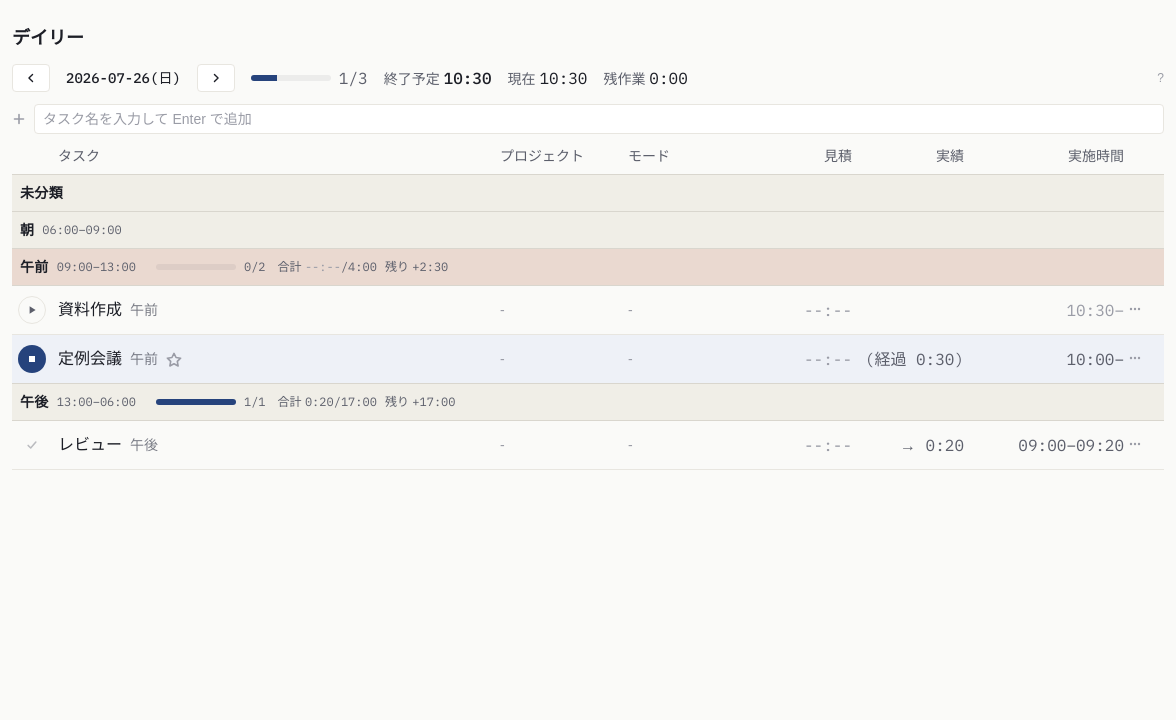
DailyBoard の URL 編集（O-18 / F-125 / §8） › Esc で取り消すと書きかけは保存されない（00_共通 §2.3）
The image size is (1176, 720).
Click the button named "行メニュー" next to "10:30–" at {"x": 1135, "y": 308}, box left=1124, top=298, right=1146, bottom=320
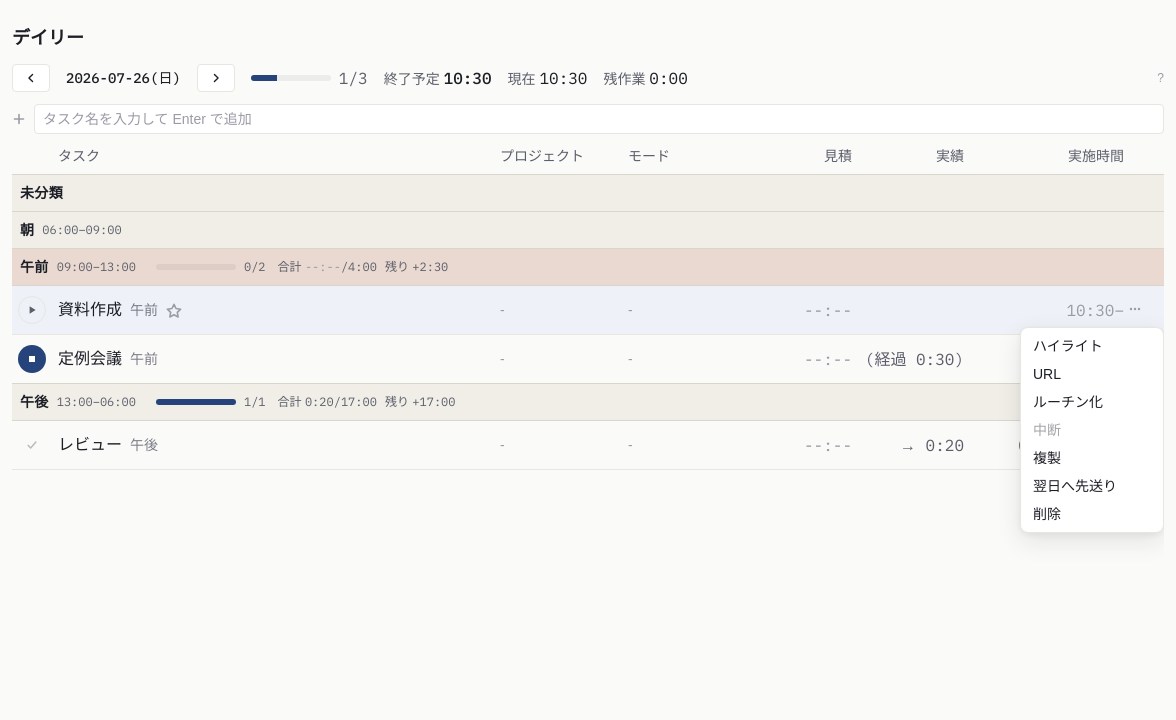
Click the button "URL" at {"x": 1092, "y": 374}, box left=1021, top=360, right=1163, bottom=388
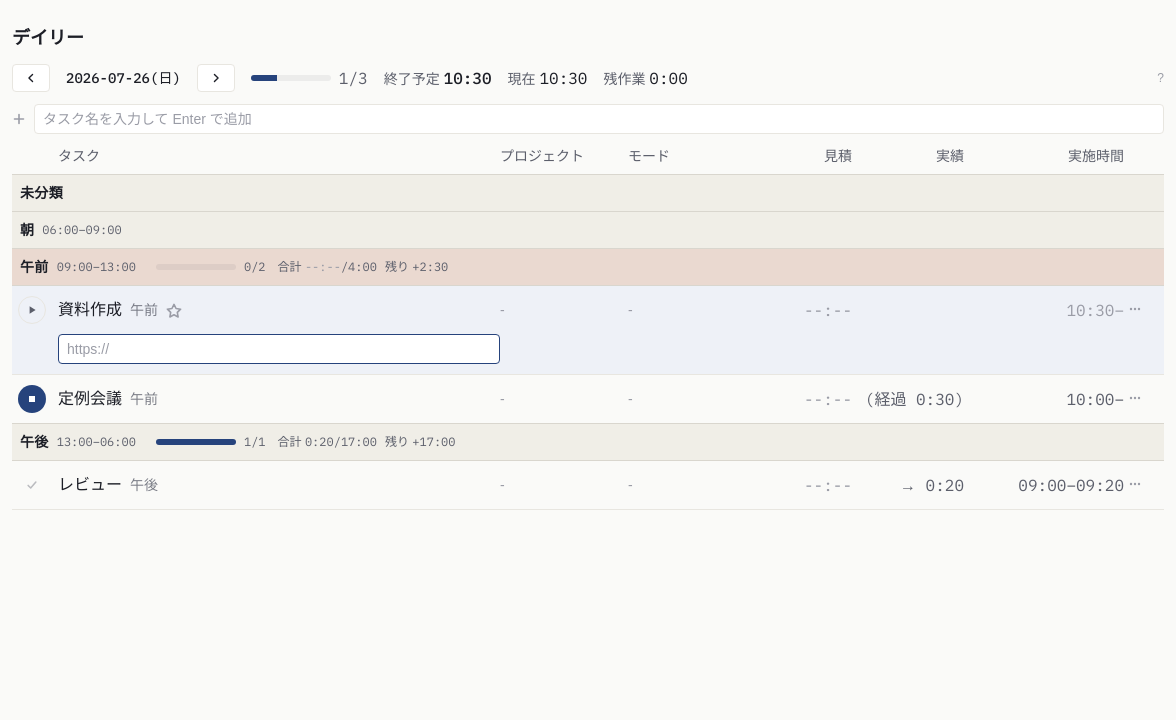
Type "https://example.com/draft" into the field with placeholder "https://" at {"x": 279, "y": 349}, box left=58, top=334, right=500, bottom=364
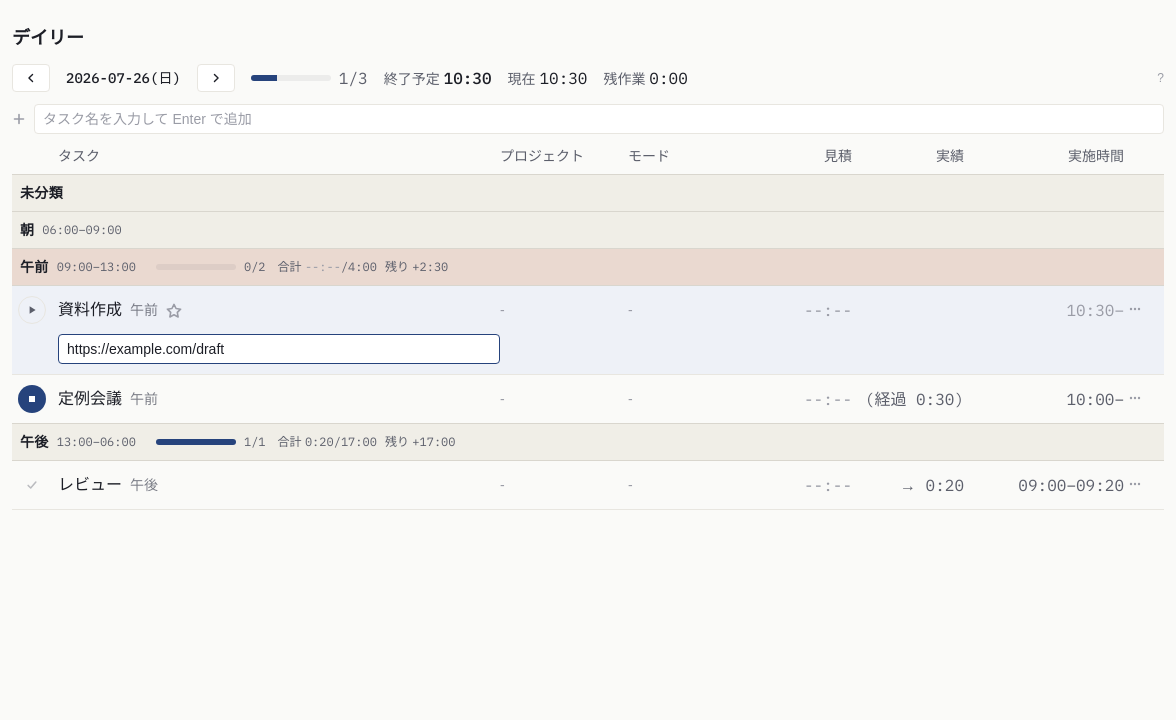
Press Escape in the field with placeholder "https://", box left=58, top=334, right=500, bottom=364
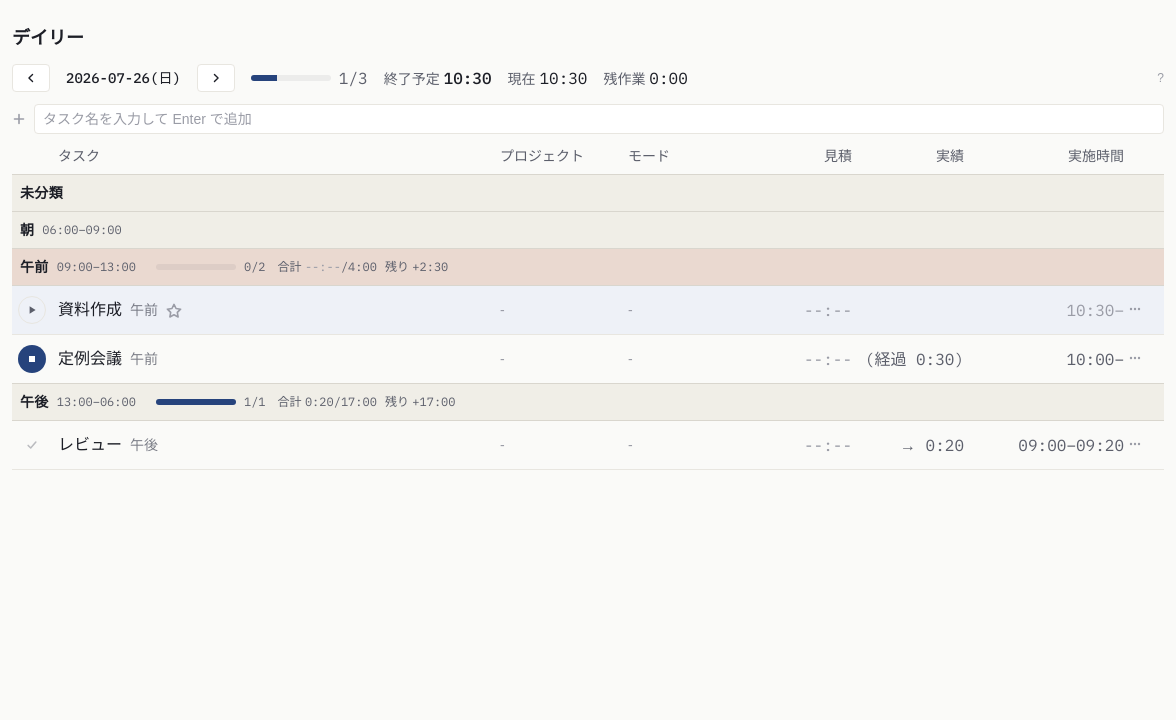
Expected: the field with placeholder "https://" is gone
